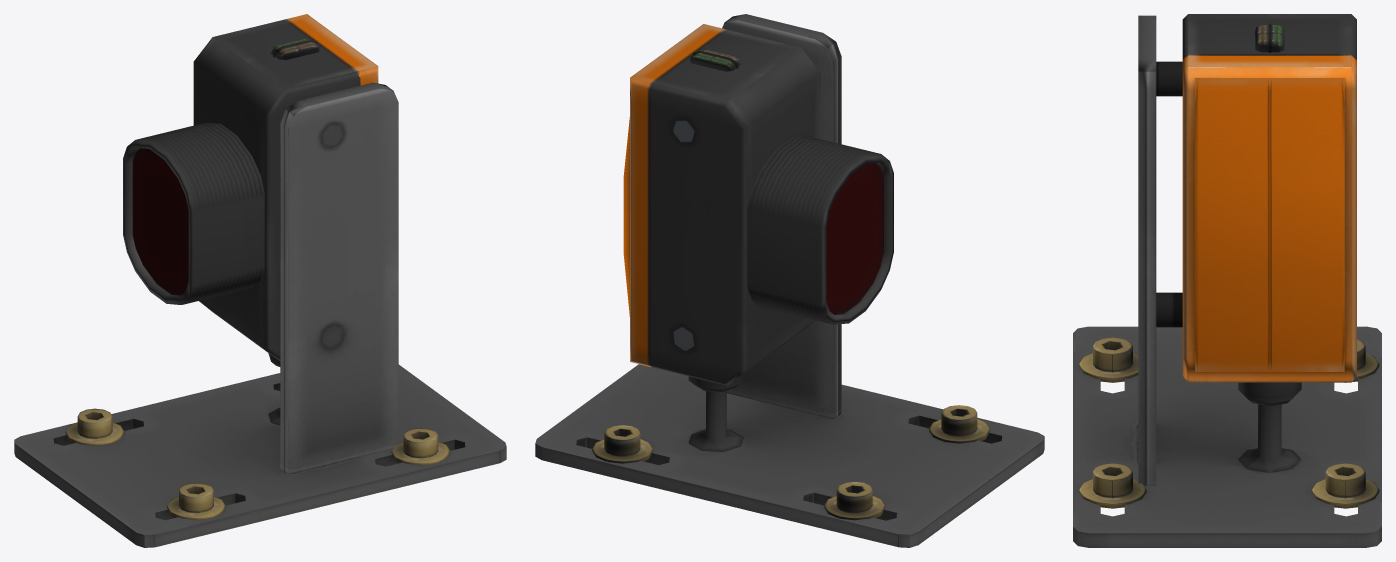
Rendered from RetroReflectivePhotoelectricSensor.glb.
3 views of the same model, side by side, from view 1: azimuth 30°, elevation 25°; view 2: azimuth 150°, elevation 25°; view 3: azimuth 270°, elevation 25° (orthographic). The views are drawn at different scales.
Parts seen in each view (by area): view 1: RetroReflectivePhotoelectricSensor; view 2: RetroReflectivePhotoelectricSensor; view 3: RetroReflectivePhotoelectricSensor.
Part boxes in pixels (box(x1,y1,x2,y2)): RetroReflectivePhotoelectricSensor: box(14, 14, 506, 547); RetroReflectivePhotoelectricSensor: box(535, 14, 1044, 547); RetroReflectivePhotoelectricSensor: box(1073, 14, 1381, 547).
Size of the model in its own units: 0.0927 by 0.0926 by 0.0585.
Materials: 1 (1 with a texture image).
